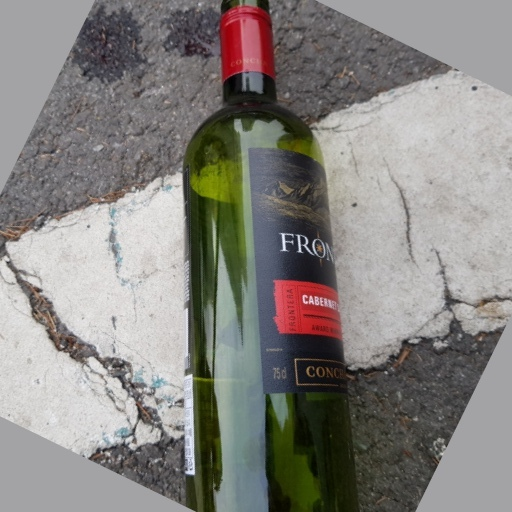Glass_2: (180, 3, 360, 512)
